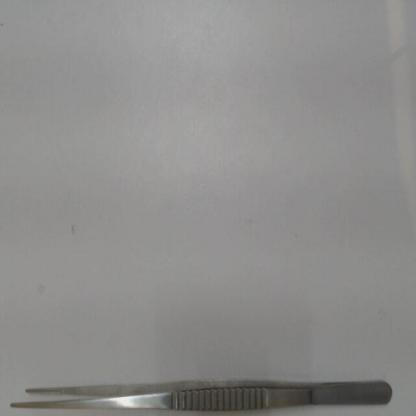DeBakey Dissector: (4, 364, 405, 413)
